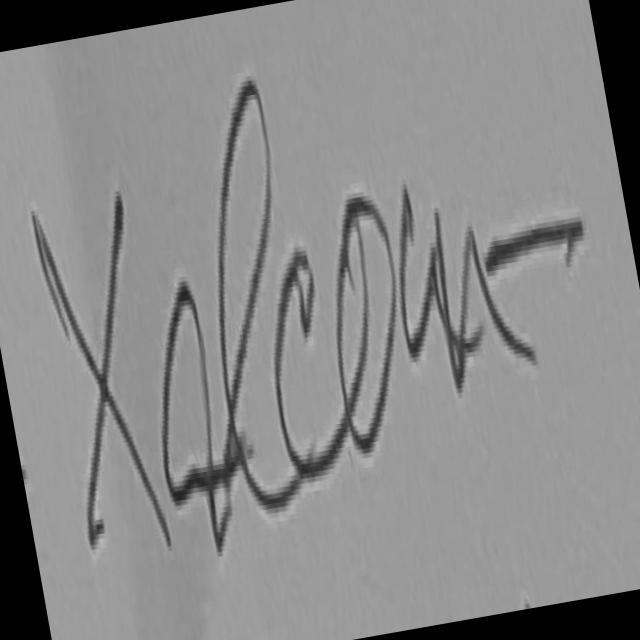X: (0, 107, 187, 610)
a: (128, 237, 251, 584)
c: (264, 217, 364, 553)
l: (173, 42, 280, 539)
o: (307, 126, 412, 507)
r: (379, 132, 478, 500)
t: (422, 43, 576, 599)
